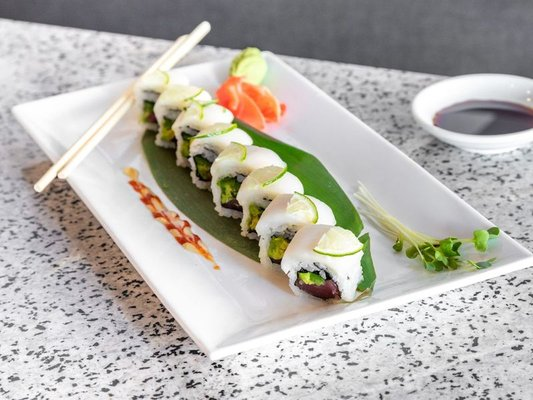sushi: (411, 73, 533, 152)
